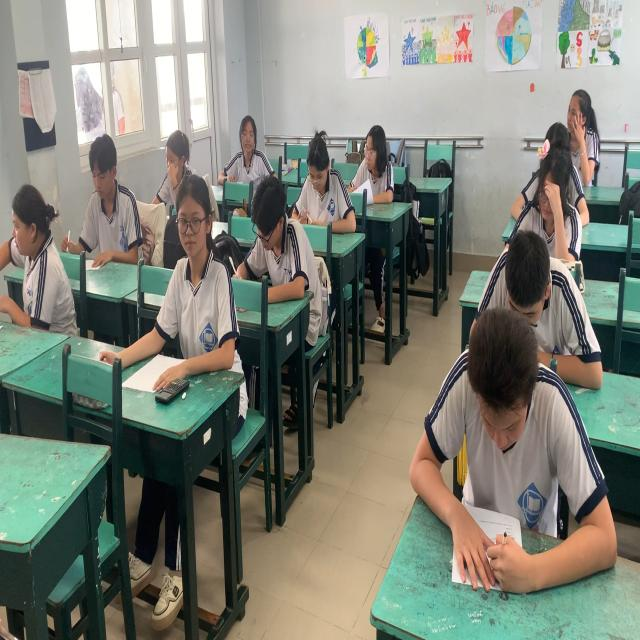cheating: (0, 163, 67, 350)
not_cheating: (427, 316, 581, 586), (157, 164, 248, 395), (59, 116, 145, 270), (242, 178, 308, 287), (536, 116, 581, 256), (294, 125, 346, 246), (494, 243, 564, 316), (232, 98, 272, 194), (357, 115, 394, 215), (565, 87, 602, 170), (159, 128, 192, 202)
